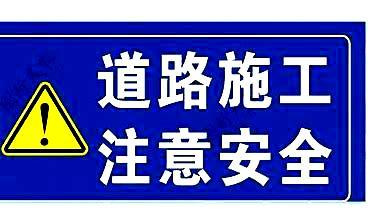sign: (1, 28, 364, 200)
